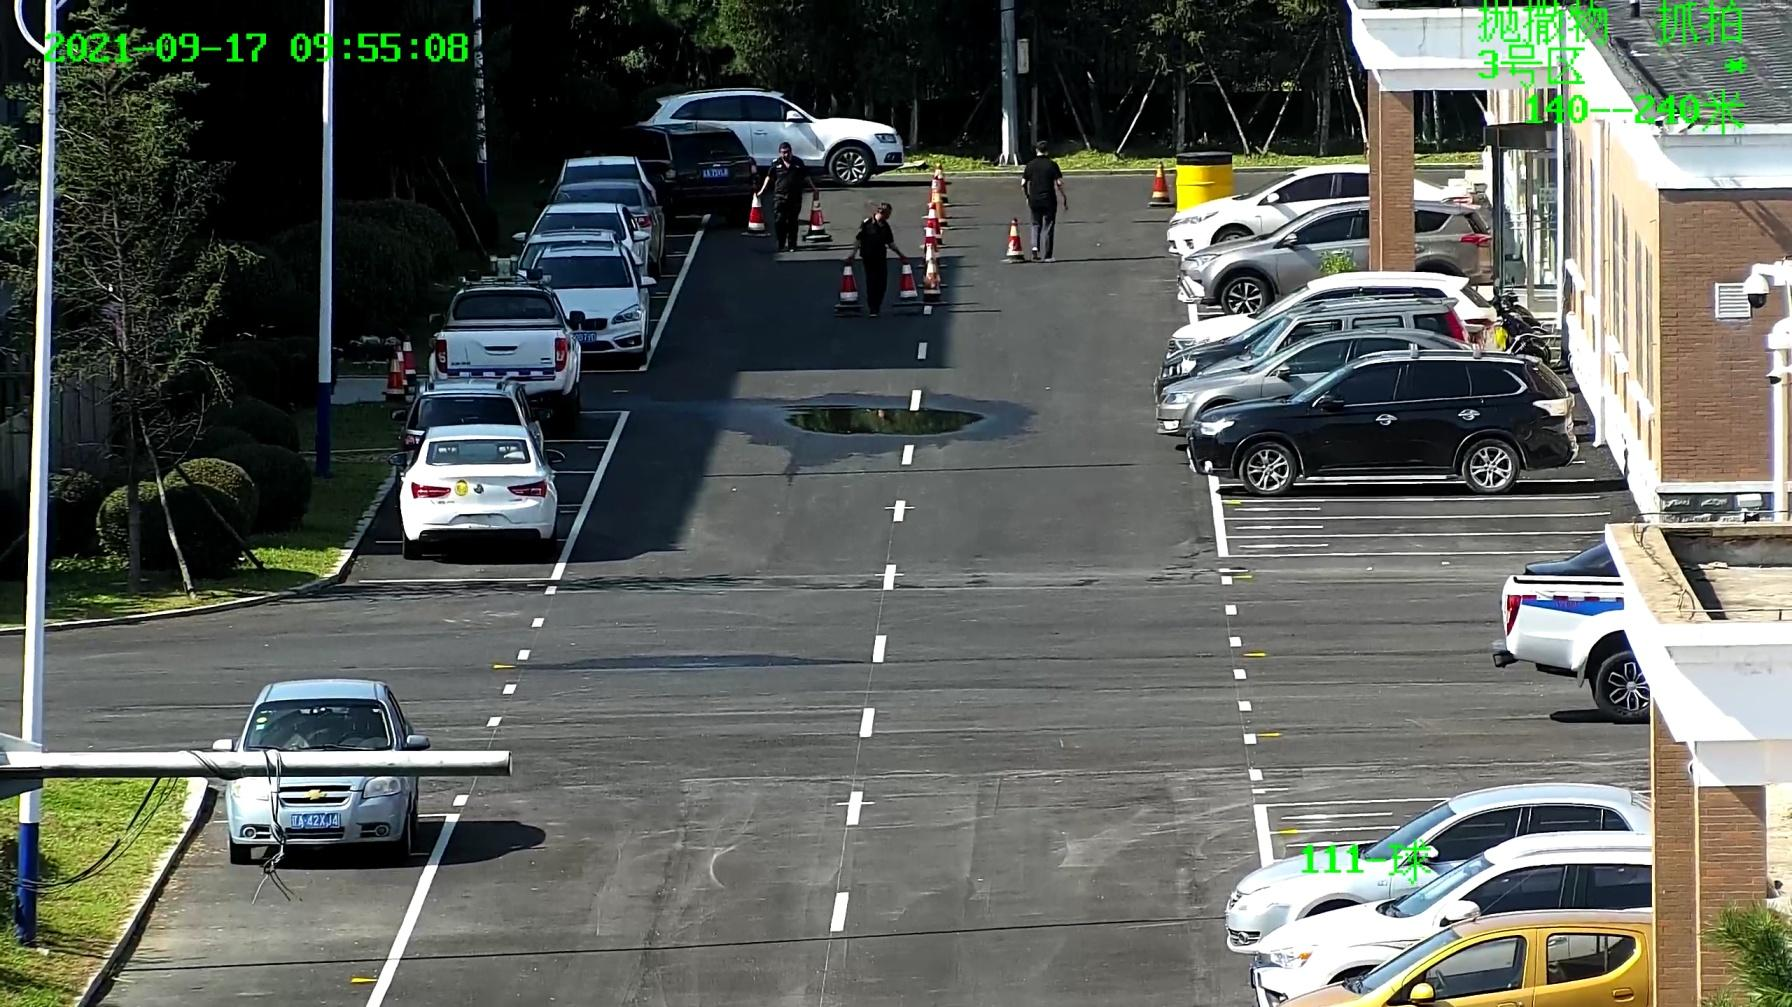cone_barrel: (380, 336, 412, 399), (800, 193, 832, 243), (999, 214, 1030, 262), (1142, 160, 1173, 207), (833, 259, 862, 309), (892, 259, 922, 305), (741, 186, 767, 233), (917, 256, 944, 297), (923, 204, 946, 249), (919, 222, 942, 263), (927, 190, 950, 227)
